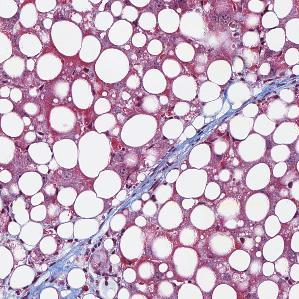fibrosis: (134, 143, 190, 191), (59, 233, 118, 270)
